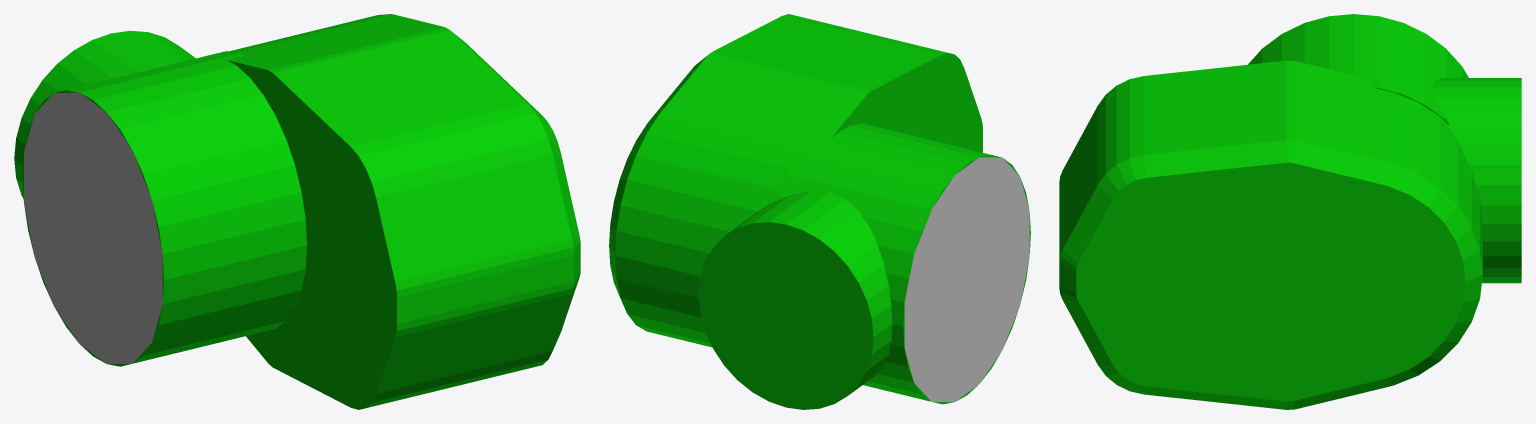
Rendered from PINCER_HOUSING2_EDIT.obj.
The picture shows the model from 3 angles, left to right: view 1: azimuth 30°, elevation 25°; view 2: azimuth 150°, elevation 25°; view 3: azimuth 270°, elevation 25°; orthographic projection. The views are drawn at different scales.
Visible parts, largest first — view 1: PINCER_HOUSING2; view 2: PINCER_HOUSING2; view 3: PINCER_HOUSING2.
Part boxes in pixels (x1,y1,x2,y2): PINCER_HOUSING2: (14, 14, 580, 409); PINCER_HOUSING2: (609, 14, 1030, 409); PINCER_HOUSING2: (1059, 14, 1521, 409).
Size of the model in its own units: 0.0546 by 0.0458 by 0.071.
